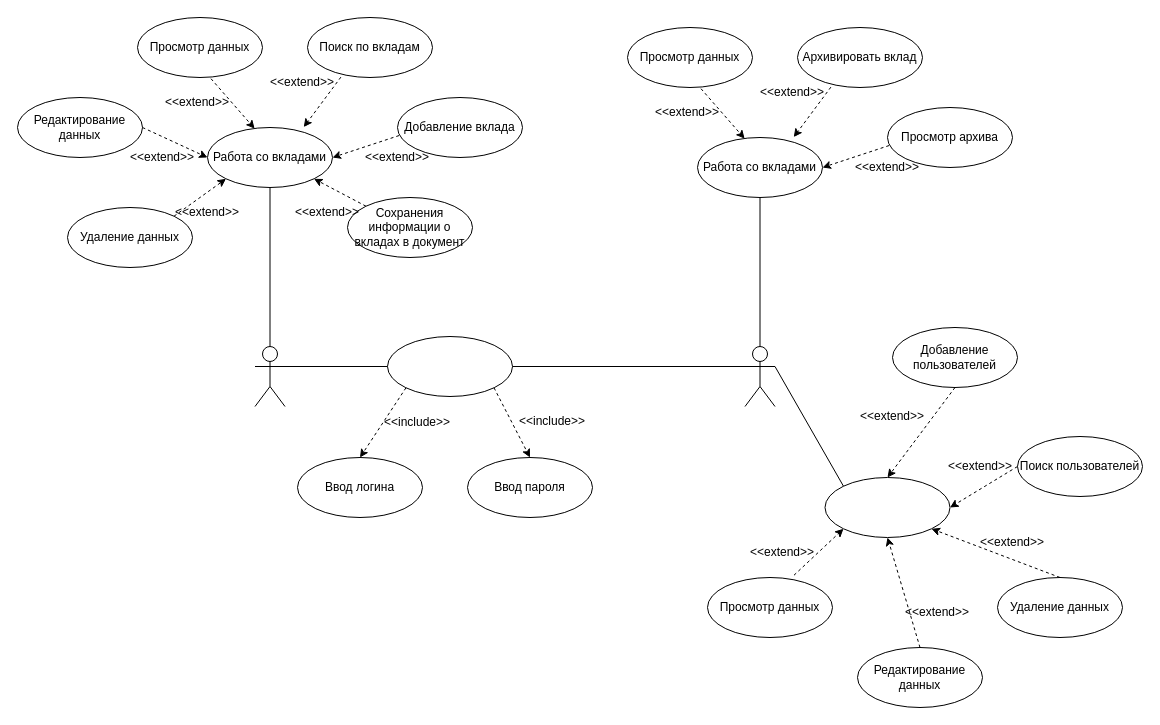
Image size: 1160x725. Some labels were removed from this diagram. Here are the shapes that lost their labels. From the top down, the centre of each, then its label:
At pixel 269 376: "Пользователь".
At pixel 449 366: "Авторизация".
At pixel 759 376: "Администратор".
At pixel 887 507: "Работа с пользователями".
